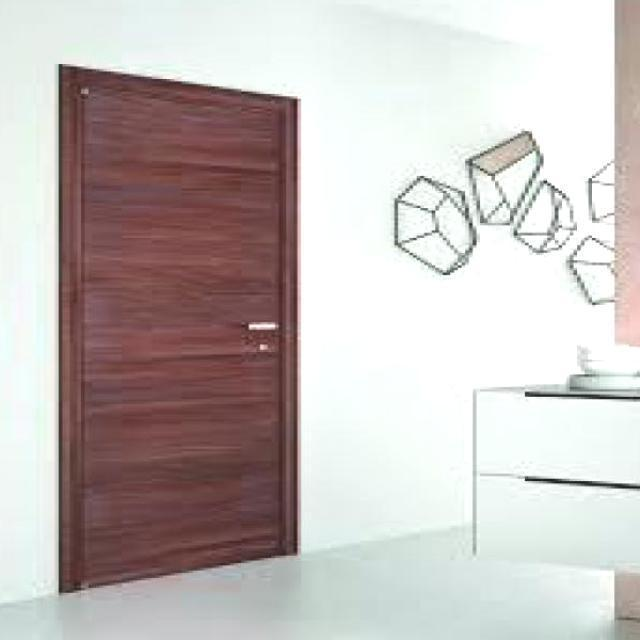door: (57, 63, 298, 592)
